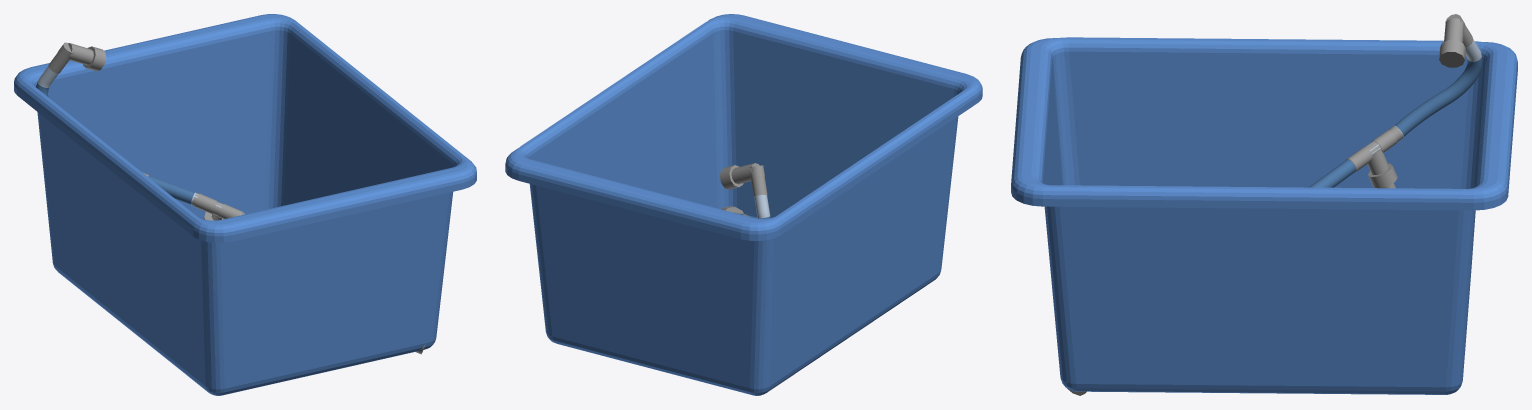
3 views of the same model, side by side, from view 1: azimuth 30°, elevation 25°; view 2: azimuth 150°, elevation 25°; view 3: azimuth 270°, elevation 25° (orthographic). The views are drawn at different scales.
Parts seen in each view (by area): view 1: bin, tube_0_AB; view 2: bin, tube_0_AB; view 3: bin, tube_0_AB.
Boxes of the visible parts, bbox=[...] form: bin: bbox=[14, 14, 476, 395]; tube_0_AB: bbox=[36, 42, 425, 354]; bin: bbox=[505, 14, 982, 395]; tube_0_AB: bbox=[719, 163, 770, 218]; bin: bbox=[1011, 37, 1517, 394]; tube_0_AB: bbox=[1065, 14, 1482, 395].
Size of the model in its own units: 0.3034 by 0.2385 by 0.404.
